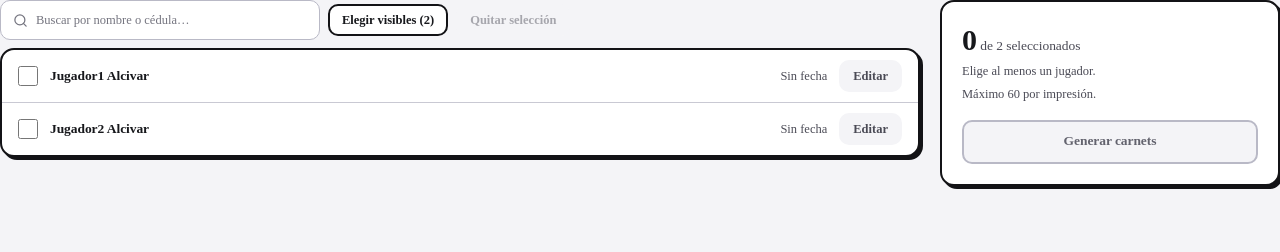
CarnetPicker — «Miembro desde» on the row (#1749, S1) › opens the editor on that row only, without toggling the row's checkbox
Click the button with aria-label "Editar Miembro desde de Jugador1 Alcivar".
click(871, 76)  # box [839,60,902,92]
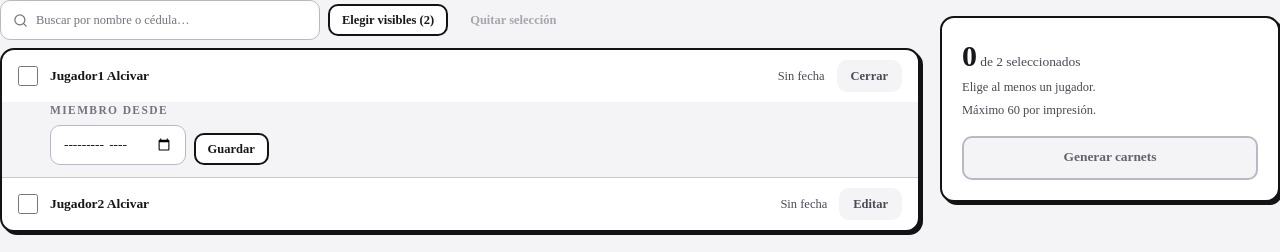
Expected: the checkbox named "Elegir a Jugador1 Alcivar" is not checked, [18,66,38,86]
Result: the field named "Miembro desde de Jugador1 Alcivar" is shown at [50,125,186,165]
Result: the button with aria-label "Cerrar Miembro desde de Jugador1 Alcivar" is expanded at [836,60,902,92]
